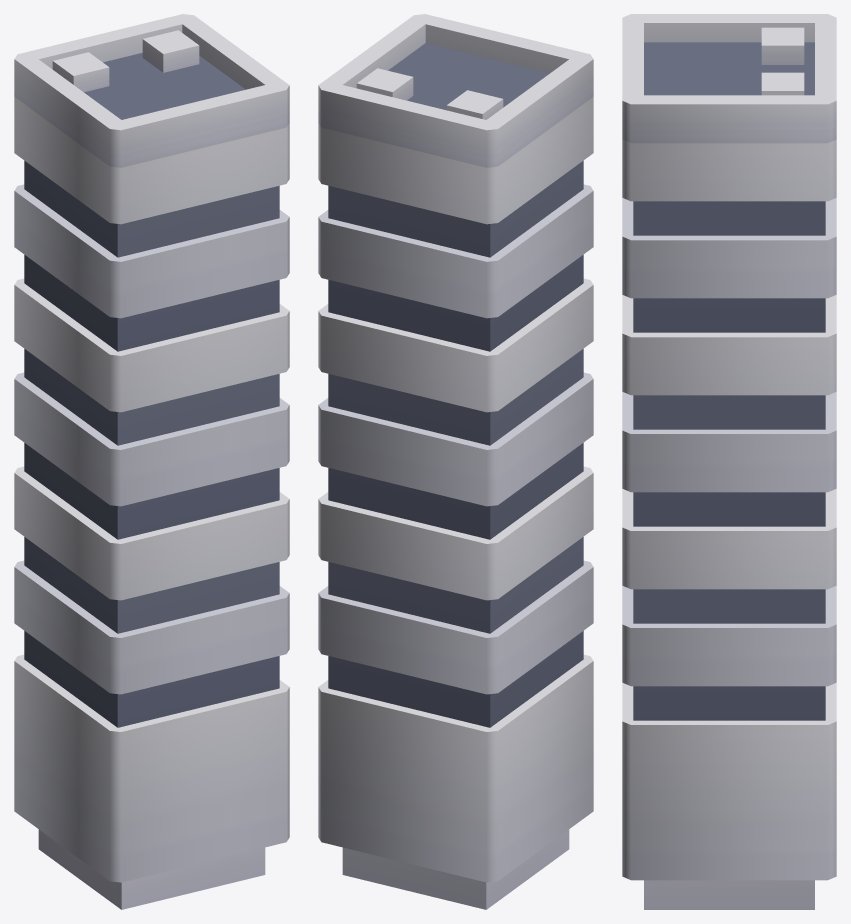
Rendered from low-detail-building-h.glb.
The picture shows the model from 3 angles, left to right: view 1: azimuth 30°, elevation 25°; view 2: azimuth 150°, elevation 25°; view 3: azimuth 270°, elevation 25°; orthographic projection. The views are drawn at different scales.
Parts seen in each view (by area): view 1: low-detail-building-h; view 2: low-detail-building-h; view 3: low-detail-building-h.
Boxes of the visible parts, box(x1,y1,x2,y2) form: low-detail-building-h: box(14, 14, 289, 909); low-detail-building-h: box(318, 14, 593, 909); low-detail-building-h: box(622, 14, 836, 909).
Bounding box in the file's own units: 0.5 × 2.1 × 0.5.
Materials: 1 (1 with a texture image).
